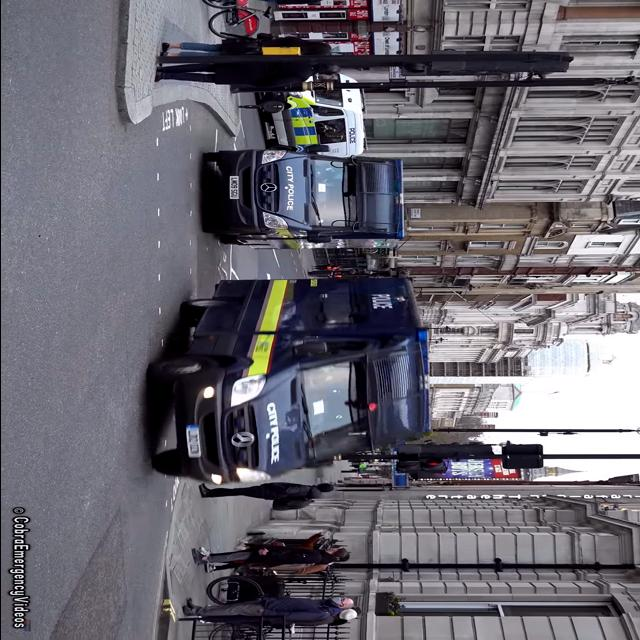emergency-vehicles: (144, 265, 444, 509), (187, 124, 421, 264)
